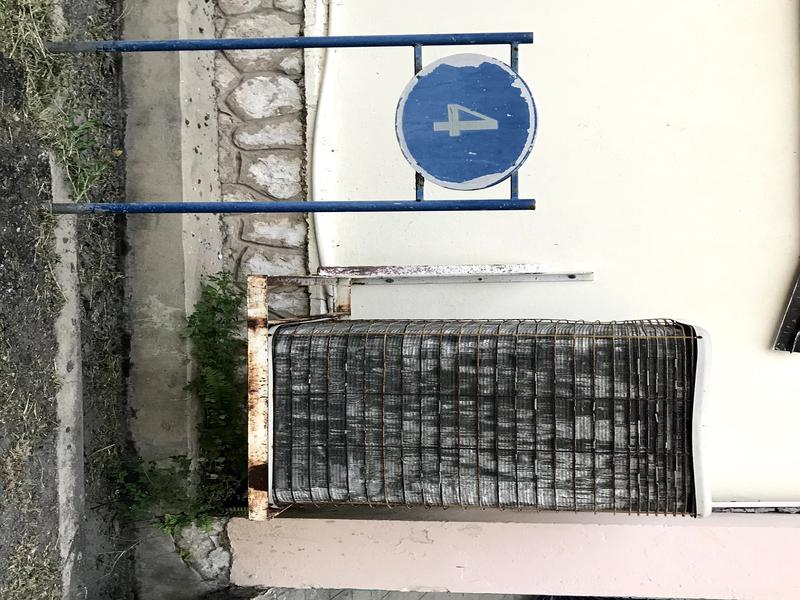18.0053530_-76.7490375_signatentrancetoscitech: (28, 24, 570, 225)
